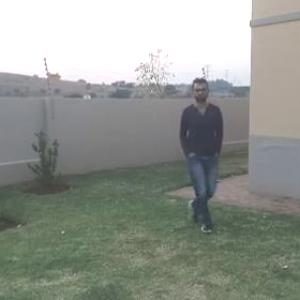follow: (178, 75, 228, 222)
